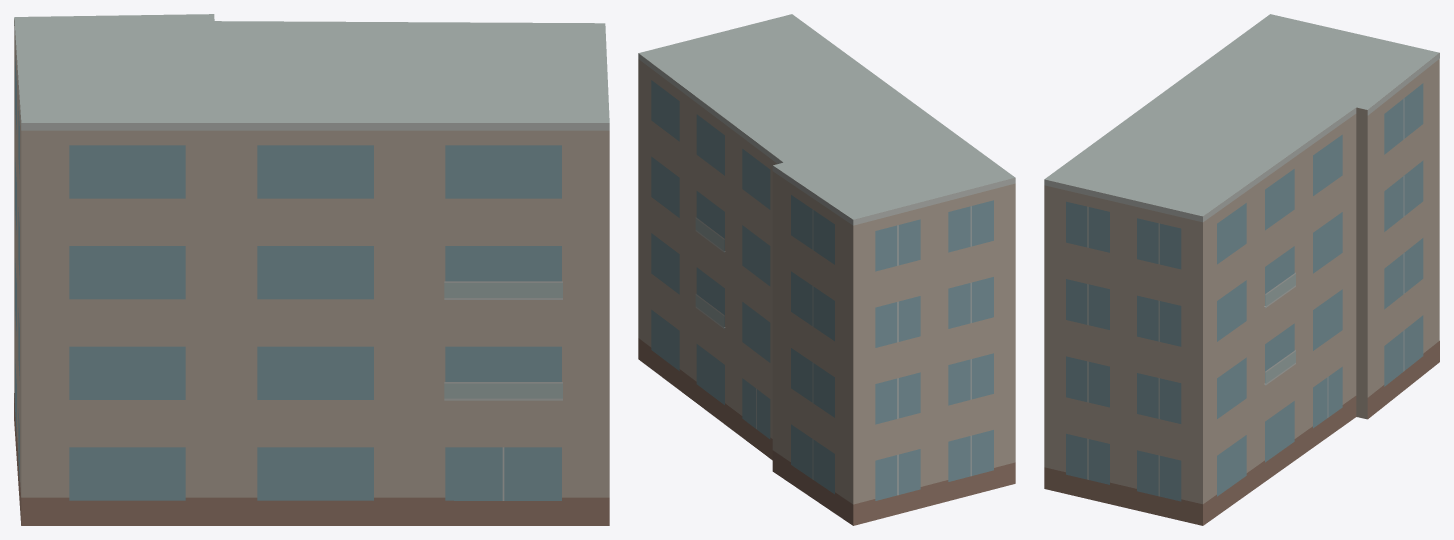
Rendered from survey-upis-33011567.glb.
3 renders of one model, left to right at view 1: azimuth 30°, elevation 25°; view 2: azimuth 150°, elevation 25°; view 3: azimuth 270°, elevation 25°, orthographic. The views are drawn at different scales.
Parts seen in each view (by area): view 1: survey-upis-33011567.tmp; view 2: survey-upis-33011567.tmp; view 3: survey-upis-33011567.tmp.
Boxes of the visible parts, left/top/right/bottom form: survey-upis-33011567.tmp: left=14, top=14, right=609, bottom=525; survey-upis-33011567.tmp: left=638, top=14, right=1015, bottom=525; survey-upis-33011567.tmp: left=1044, top=14, right=1439, bottom=525.
Size of the model in its own units: 17.97 by 12.8 by 14.84.
